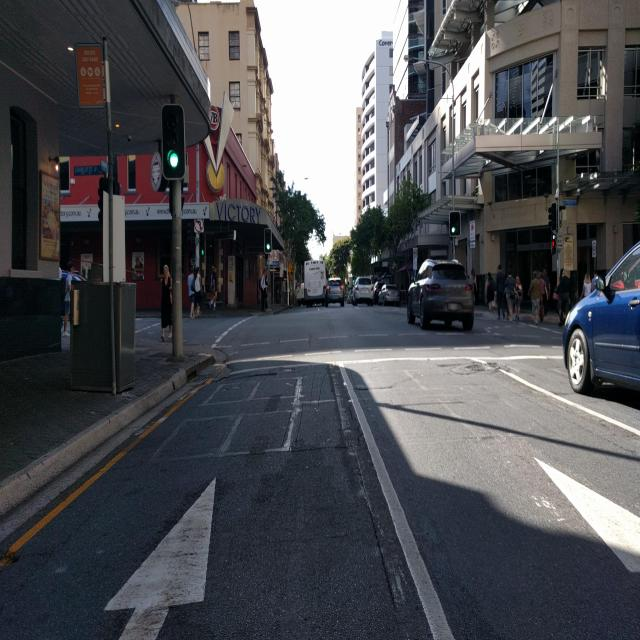Good: (463, 353, 502, 377)
